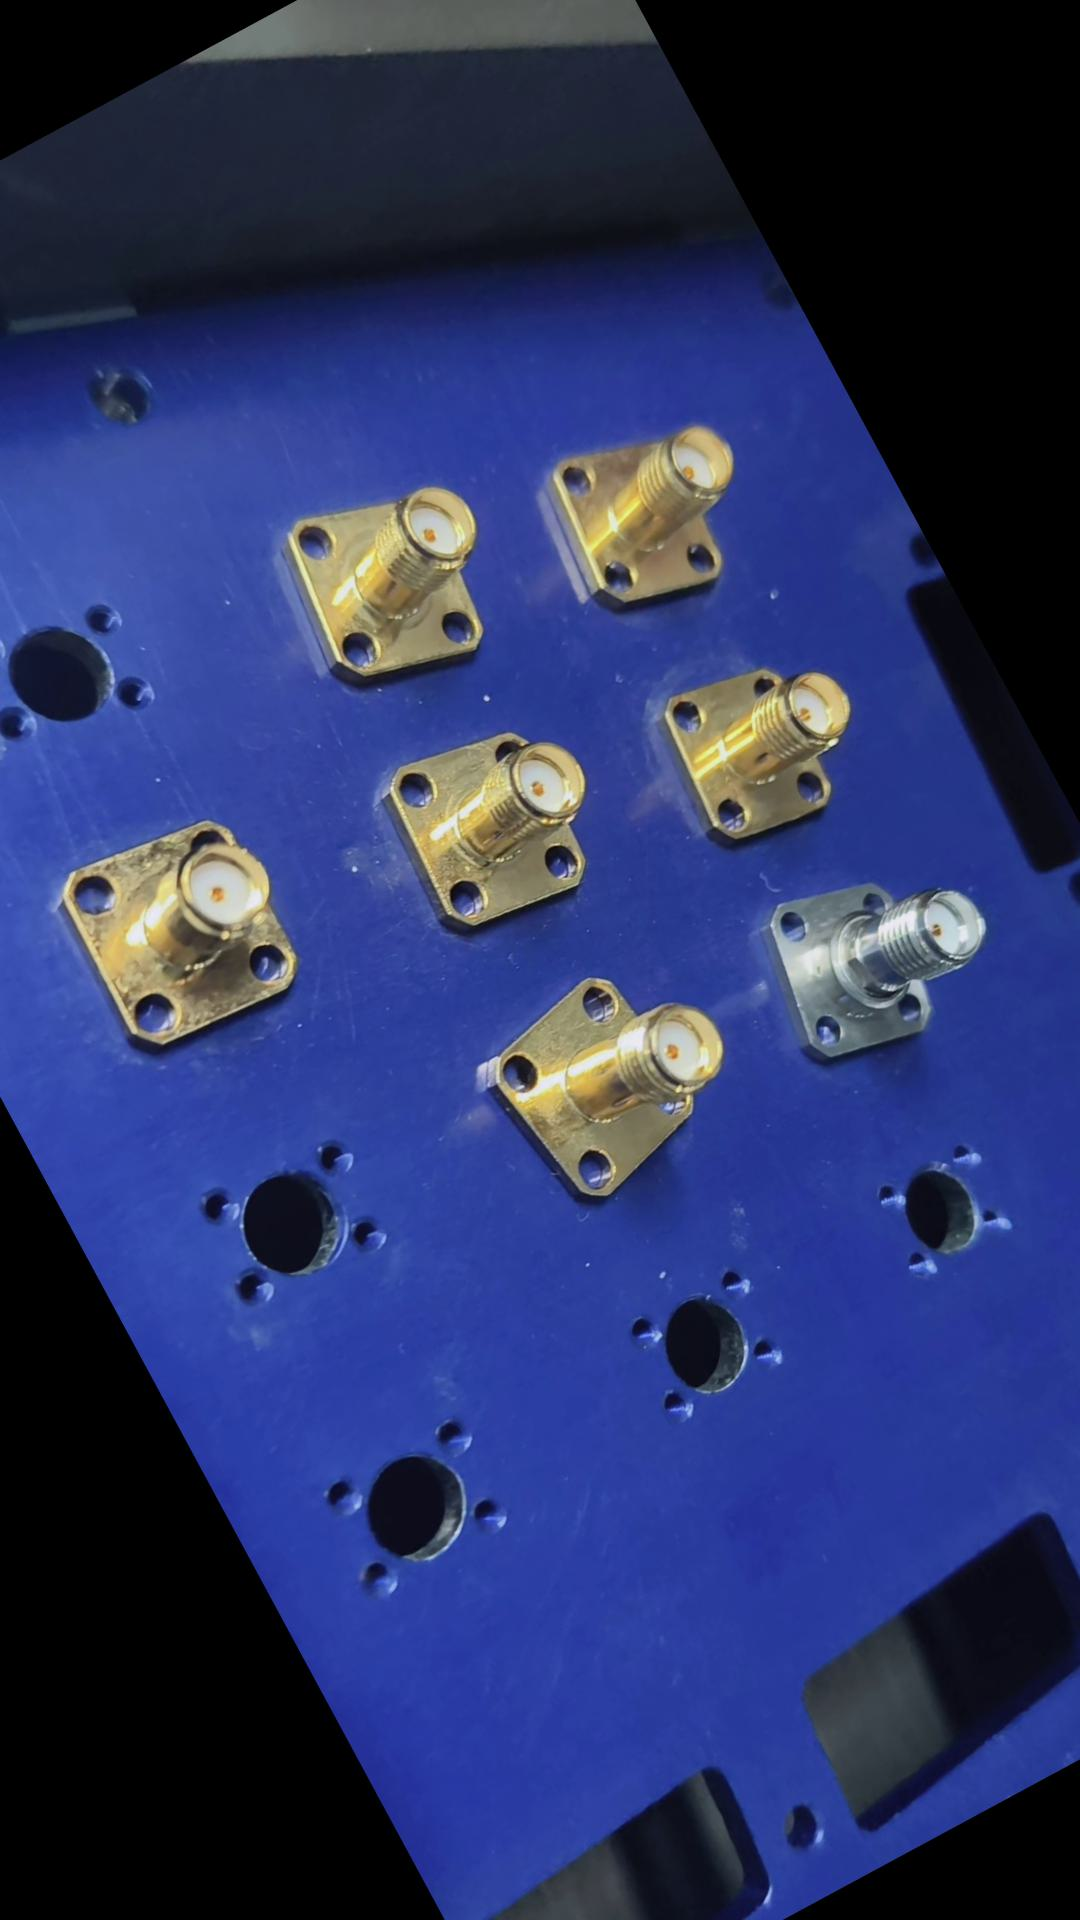SMA: (459, 934, 764, 1225), (40, 789, 324, 1073), (731, 818, 1021, 1091), (356, 688, 637, 961), (251, 447, 525, 723), (524, 388, 785, 641), (636, 618, 891, 868)
